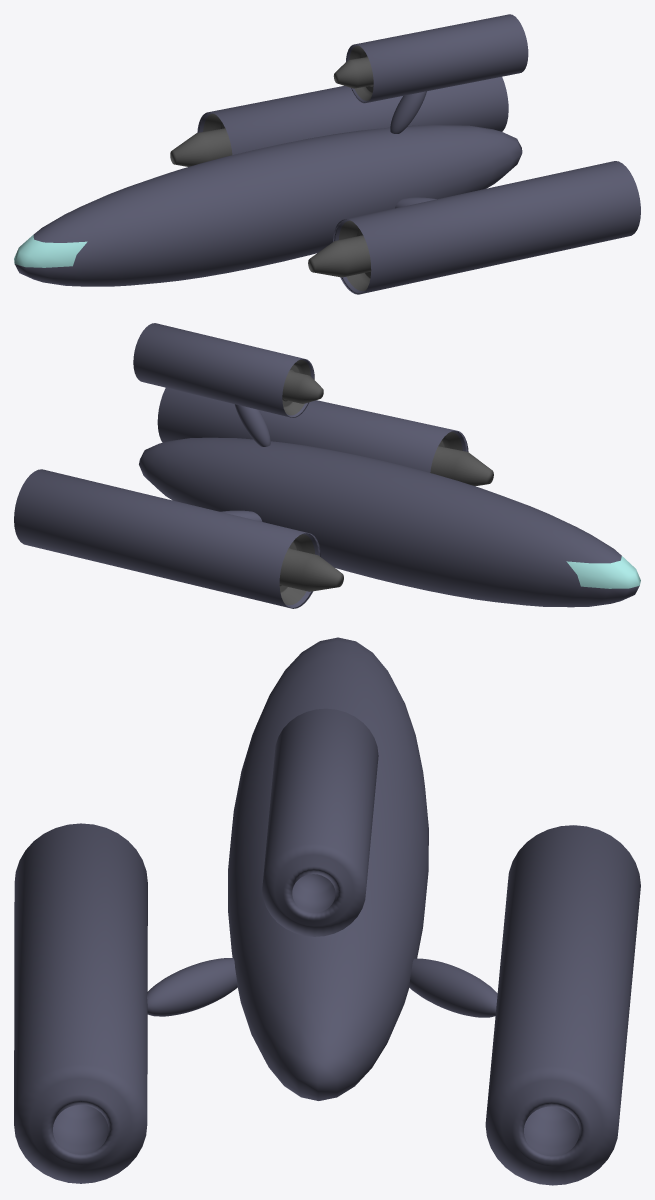
The model's file is Nave_T500_final.fbx.
3 renders of one model, top to bottom at view 1: azimuth 30°, elevation 25°; view 2: azimuth 150°, elevation 25°; view 3: azimuth 270°, elevation 25°, orthographic. The views are drawn at different scales.
Visible parts, largest first — view 1: Nave; view 2: Nave; view 3: Nave.
Boxes of the visible parts, x1,y1,x2,y2 form: Nave: (14, 14, 640, 294); Nave: (14, 323, 640, 608); Nave: (14, 637, 640, 1185).
Size of the model in its own units: 4355 by 1450 by 2503.
